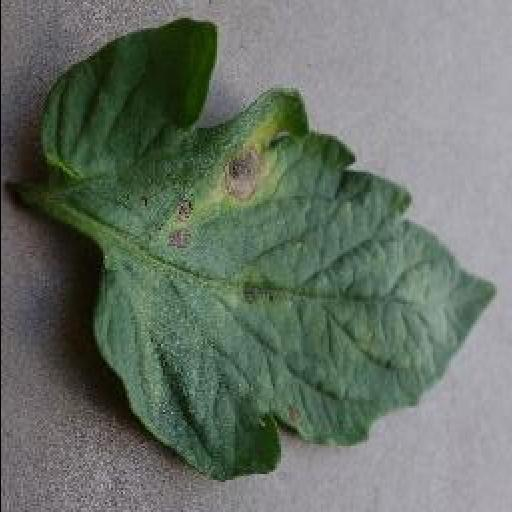disease_tomato: (40, 20, 498, 482)
